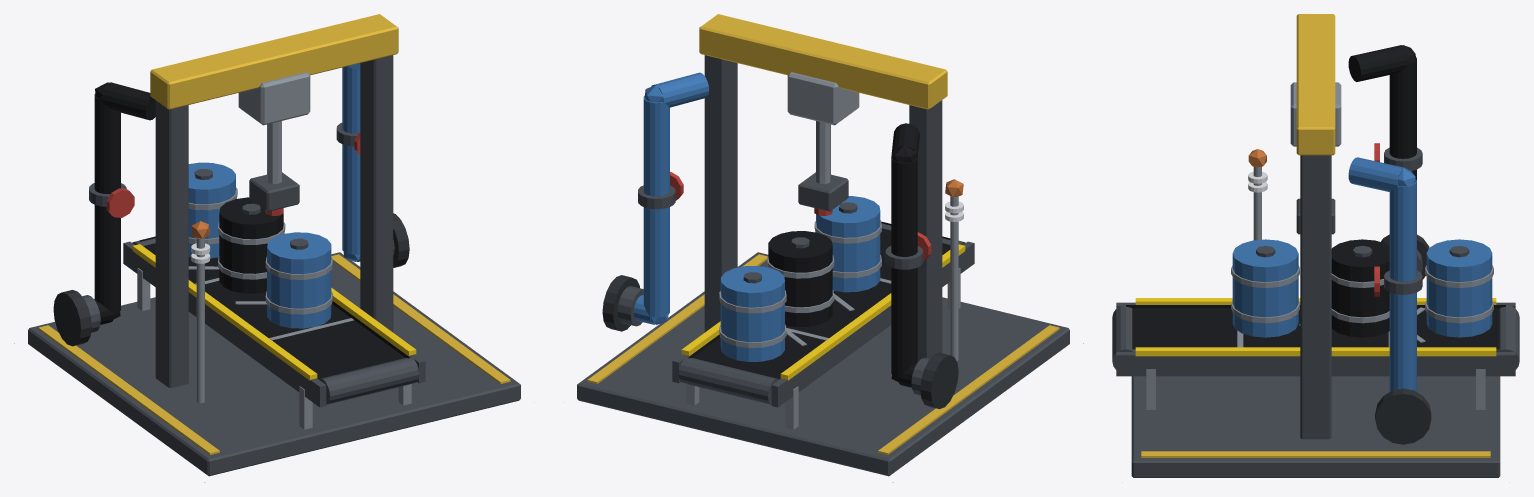
File: remplisseuse_barils.glb
3 views of the same model, side by side, from view 1: azimuth 30°, elevation 25°; view 2: azimuth 150°, elevation 25°; view 3: azimuth 270°, elevation 25° (orthographic).
Parts seen in each view (by area): view 1: pieces_acier_sombre.050, pieces_jaune.010, pieces_noir.012, barils_bleu.002, pieces_acier.044, barils_noir.002, pieces_bleu.006, pieces_rive_t1.016, pieces_fonte.008, barils_acier.002, buse_acier_sombre.002, buse_acier.002 (+2 smaller); view 2: pieces_acier_sombre.050, pieces_jaune.010, pieces_noir.012, barils_bleu.002, pieces_bleu.006, pieces_acier.044, barils_noir.002, pieces_fonte.008, barils_acier.002, pieces_rive_t1.016, buse_acier_sombre.002, buse_acier.002 (+1 smaller); view 3: pieces_acier_sombre.050, pieces_noir.012, barils_bleu.002, pieces_jaune.010, pieces_bleu.006, barils_noir.002, pieces_rive_t1.016, pieces_fonte.008, barils_acier.002, pieces_acier.044, barils_acier_sombre.002.
Part boxes in pixels (x1,y1,x2,y2): pieces_acier_sombre.050: (28,55,520,476); pieces_jaune.010: (38,14,510,454); pieces_noir.012: (94,82,409,404); barils_bleu.002: (188,162,331,328); pieces_acier.044: (137,72,411,429); barils_noir.002: (219,197,283,293); pieces_bleu.006: (342,63,360,261); pieces_rive_t1.016: (132,244,416,380); pieces_fonte.008: (53,213,409,346); barils_acier.002: (188,187,332,314); buse_acier_sombre.002: (249,172,299,211); buse_acier.002: (267,121,281,184); pieces_acier_sombre.050: (577,55,1069,476); pieces_jaune.010: (587,14,1059,454); pieces_noir.012: (688,123,950,404); barils_bleu.002: (720,196,880,361); pieces_bleu.006: (633,72,709,324); pieces_acier.044: (686,72,960,429); barils_noir.002: (768,231,832,327); pieces_fonte.008: (602,275,958,408); barils_acier.002: (719,220,881,347); pieces_rive_t1.016: (681,244,965,380); buse_acier_sombre.002: (798,172,848,211); buse_acier.002: (816,121,830,184); pieces_acier_sombre.050: (1112,147,1519,477); pieces_noir.012: (1126,45,1505,349); barils_bleu.002: (1232,239,1492,337); pieces_jaune.010: (1141,14,1490,457); pieces_bleu.006: (1348,157,1416,391); barils_noir.002: (1331,239,1389,337); pieces_rive_t1.016: (1135,298,1496,356); pieces_fonte.008: (1375,234,1431,444); barils_acier.002: (1231,265,1493,342); pieces_acier.044: (1146,82,1485,409); barils_acier_sombre.002: (1256,245,1469,257).
Size of the model in its own units: 1 by 0.94 by 1.05.
